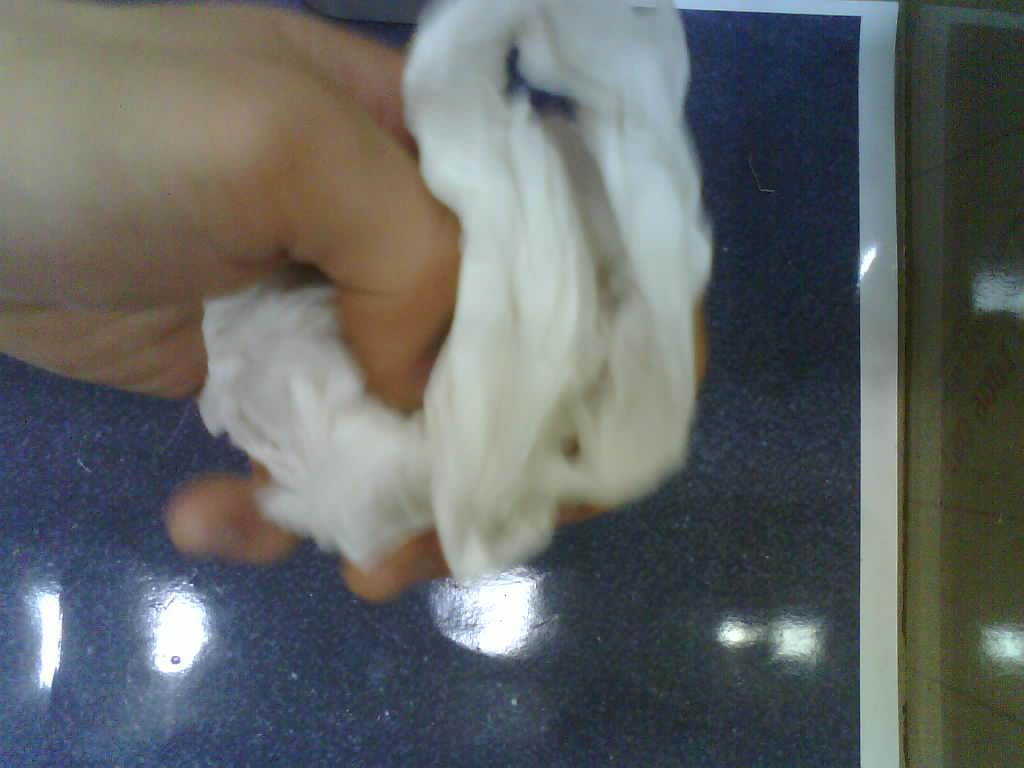paper: (200, 2, 710, 578)
